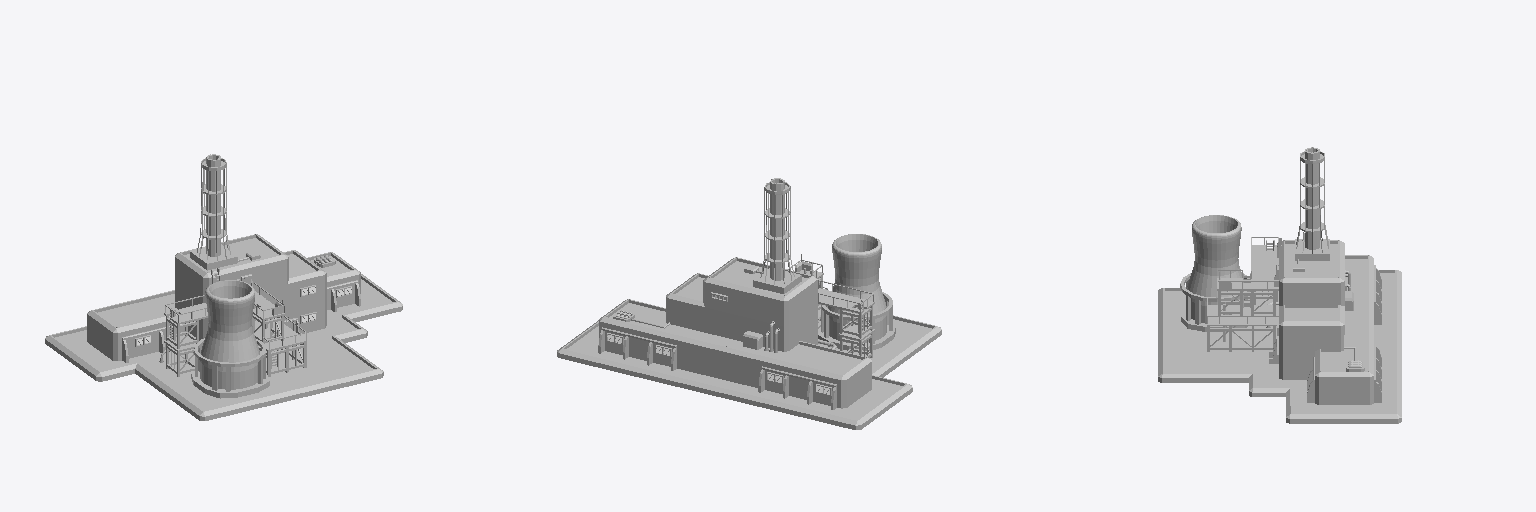
Rendered from ncl2.obj.
3 views of the same model, side by side, from view 1: azimuth 30°, elevation 25°; view 2: azimuth 150°, elevation 25°; view 3: azimuth 270°, elevation 25° (orthographic).
Visible parts, largest first — view 1: Cube.038_Cube.103; view 2: Cube.038_Cube.103; view 3: Cube.038_Cube.103.
Part boxes in pixels (x1,y1,x2,y2): Cube.038_Cube.103: (45, 154, 402, 420); Cube.038_Cube.103: (557, 178, 941, 429); Cube.038_Cube.103: (1158, 147, 1401, 423).
Size of the model in its own units: 4.62 by 2.71 by 3.2.